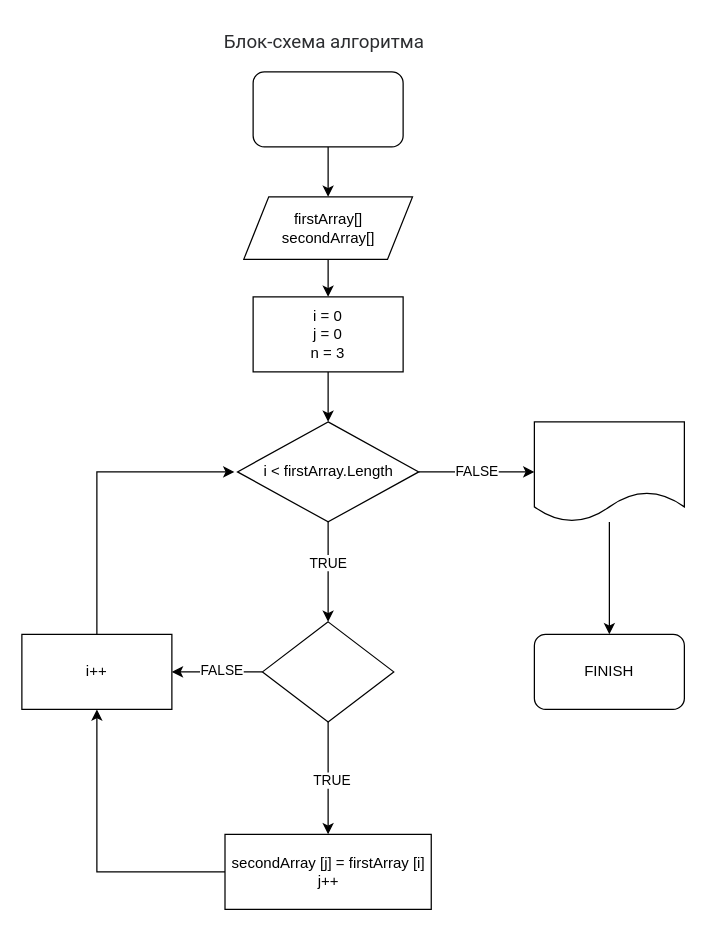
Image size: 706x931. Some labels were removed from this diagram. Each missing label, with the box of its shape:
firstArray[i] <= n: (261, 621, 394, 722)
secondArray: (533, 421, 684, 522)
START: (252, 71, 403, 147)
